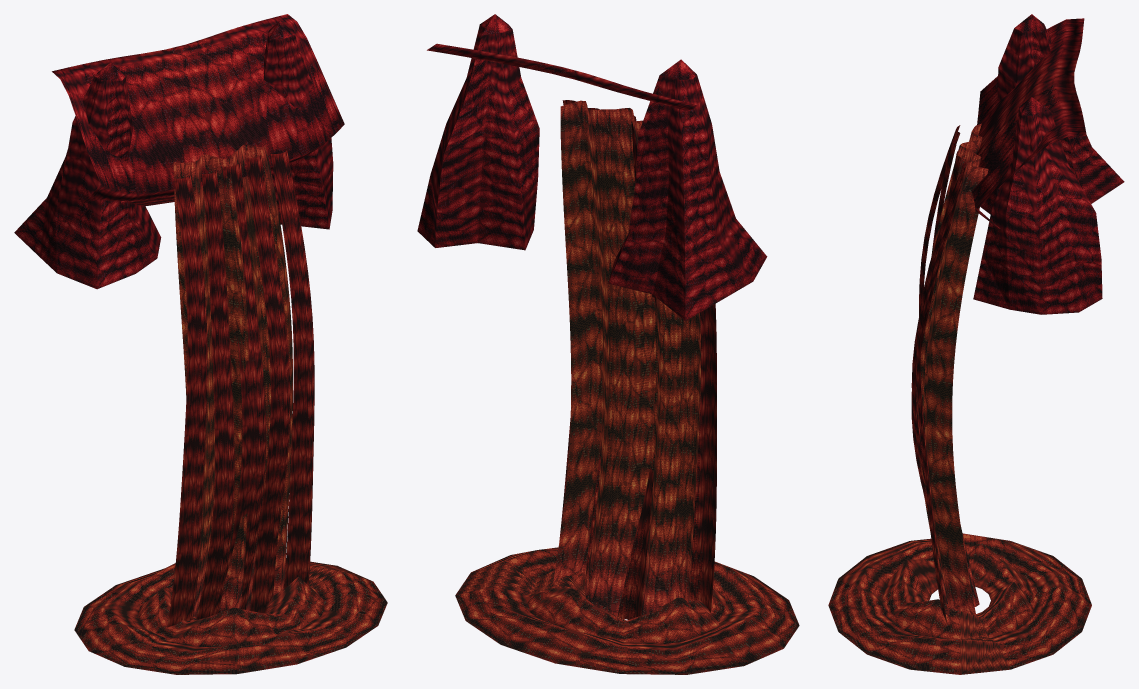
The model's file is Waterfall_AcidBlood.glb.
The picture shows the model from 3 angles, left to right: view 1: azimuth 30°, elevation 25°; view 2: azimuth 150°, elevation 25°; view 3: azimuth 270°, elevation 25°; orthographic projection. The views are drawn at different scales.
Visible parts, largest first — view 1: Waterfall_Spout_Rock, Waterfall_BloodAcid_Foam, Waterfall_Splash_Ring, Waterfall_Acid_Sheet; view 2: Waterfall_Acid_Sheet, Waterfall_Spout_Rock, Waterfall_Splash_Ring, Waterfall_BloodAcid_Foam; view 3: Waterfall_Spout_Rock, Waterfall_Splash_Ring, Waterfall_Acid_Sheet, Waterfall_BloodAcid_Foam.
Part boxes in pixels (left/top/right/bottom): Waterfall_Spout_Rock: left=14, top=14, right=344, bottom=289; Waterfall_BloodAcid_Foam: left=167, top=150, right=314, bottom=627; Waterfall_Splash_Ring: left=74, top=561, right=387, bottom=674; Waterfall_Acid_Sheet: left=170, top=143, right=292, bottom=617; Waterfall_Acid_Sheet: left=553, top=100, right=701, bottom=619; Waterfall_Spout_Rock: left=417, top=14, right=767, bottom=320; Waterfall_Splash_Ring: left=455, top=547, right=799, bottom=674; Waterfall_BloodAcid_Foam: left=559, top=100, right=716, bottom=619; Waterfall_Spout_Rock: left=971, top=14, right=1124, bottom=314; Waterfall_Splash_Ring: left=828, top=533, right=1091, bottom=674; Waterfall_Acid_Sheet: left=916, top=123, right=988, bottom=617; Waterfall_BloodAcid_Foam: left=911, top=125, right=966, bottom=624.
Bounding box in the file's own units: 13.89 × 25.89 × 12.4.
Materials: 3 (3 with a texture image).
